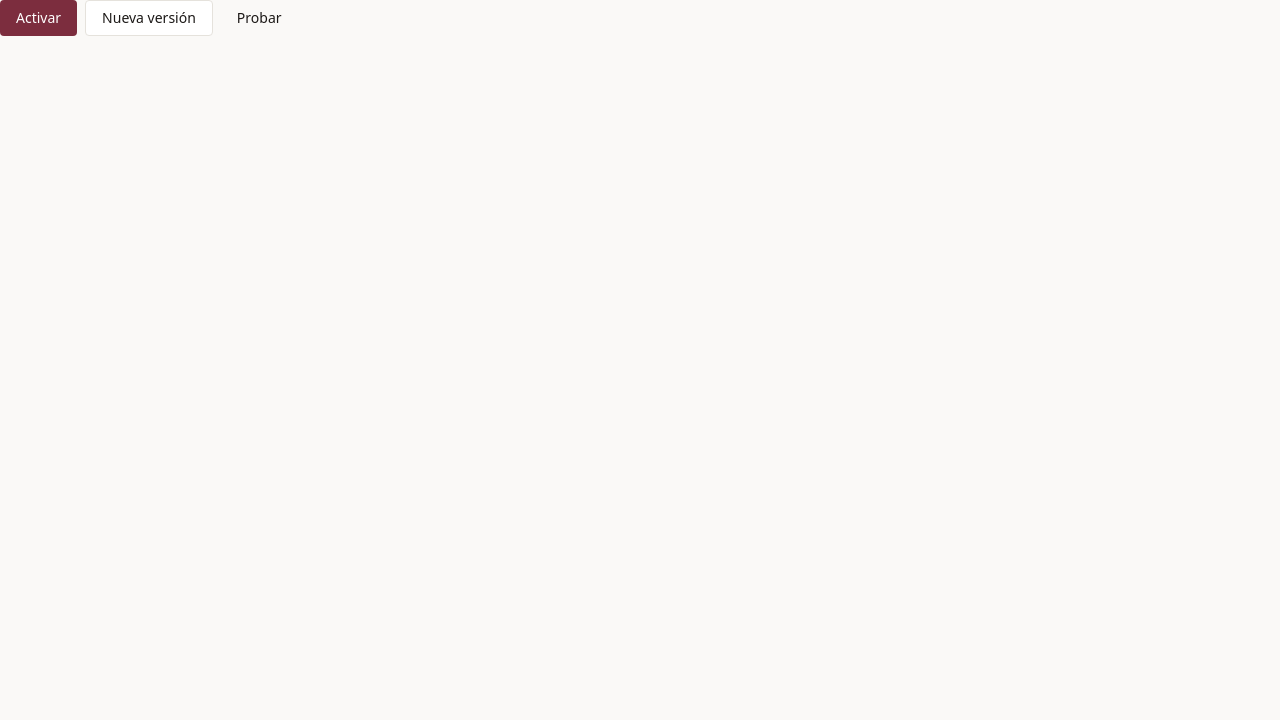
Test: LifecycleActions — optimistic concurrency (412) › sends If-Match with the head revision and reports a 412 with reload-and-retry
Click the button "Activar" at [39, 18], box [0,0,77,36]
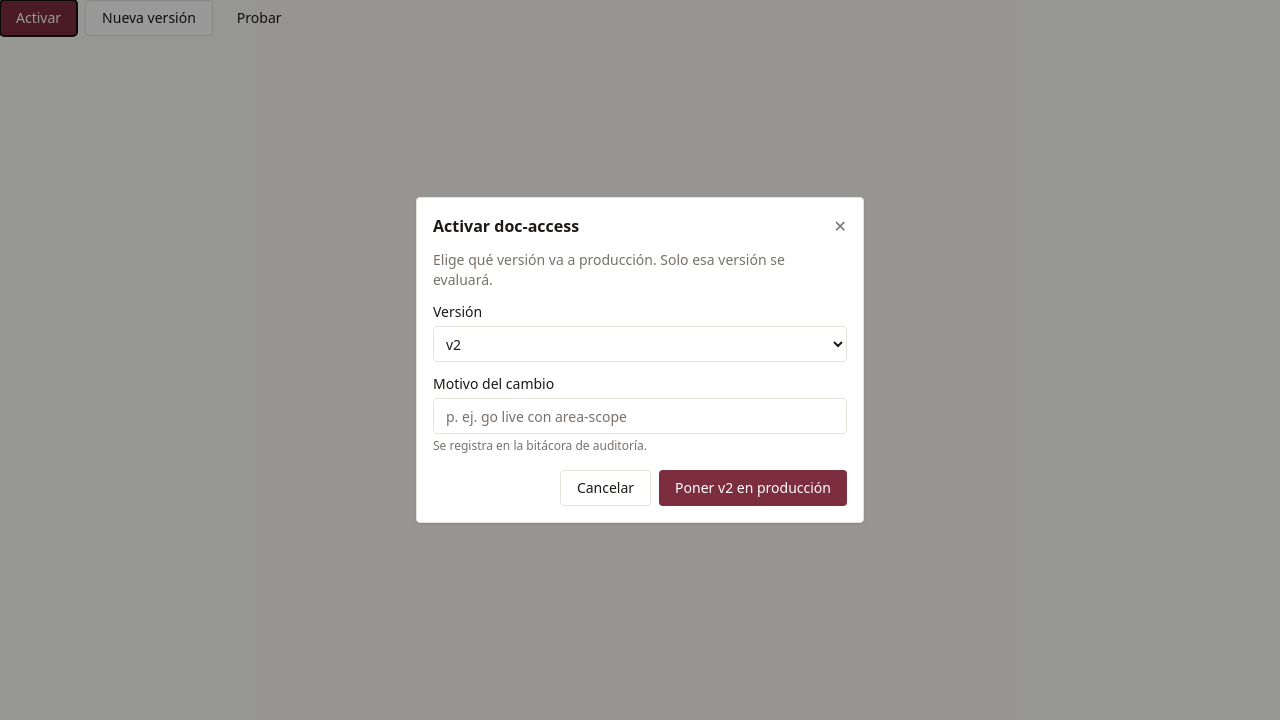
Click the button "Poner v2 en producción" at [753, 488], box [659,470,847,506]
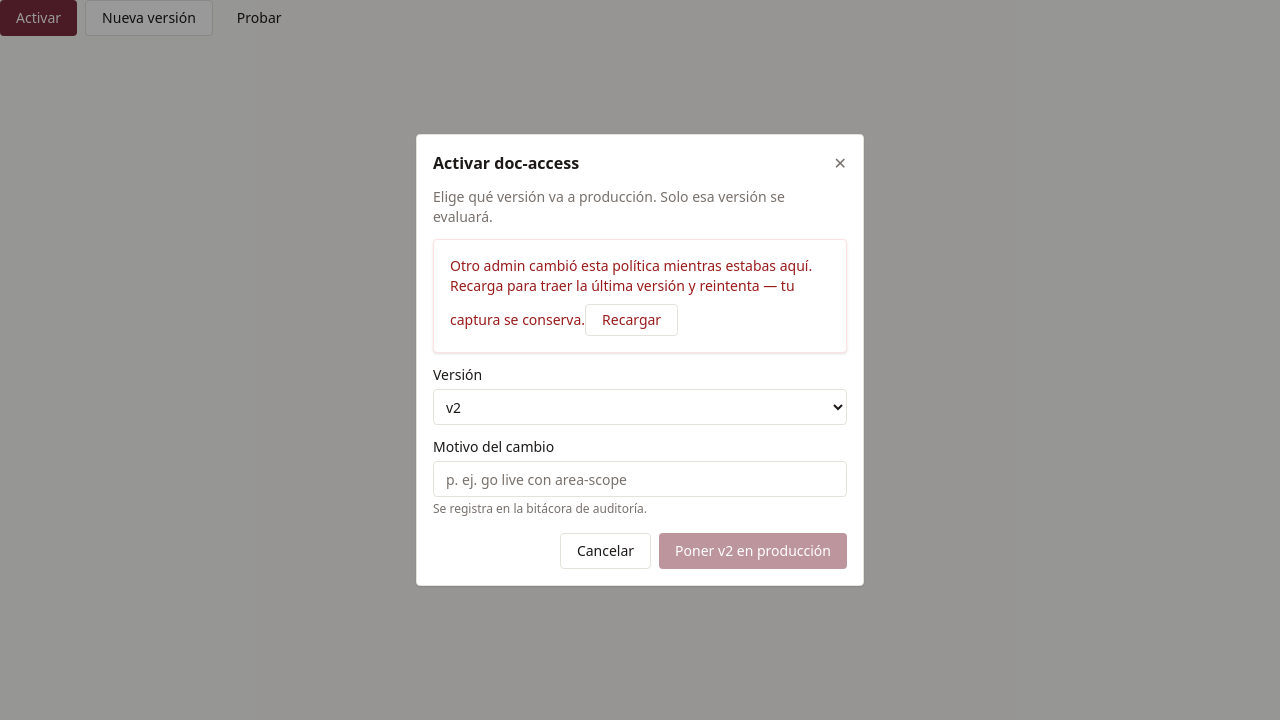
Expected: the text "Otro admin cambió esta política" is shown, [450,256,812,329]
Expected: the button "Recargar" is shown, [585,304,678,336]
